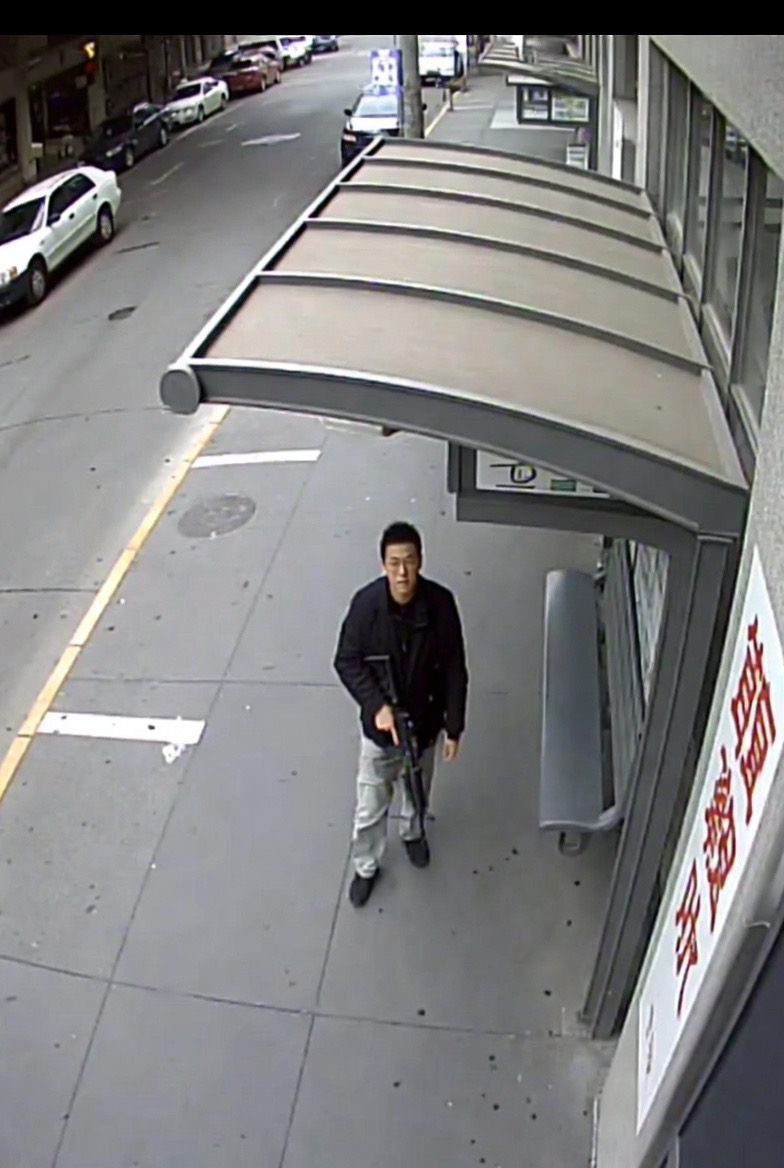person: (333, 522, 470, 908)
weapon: (370, 658, 434, 872)
